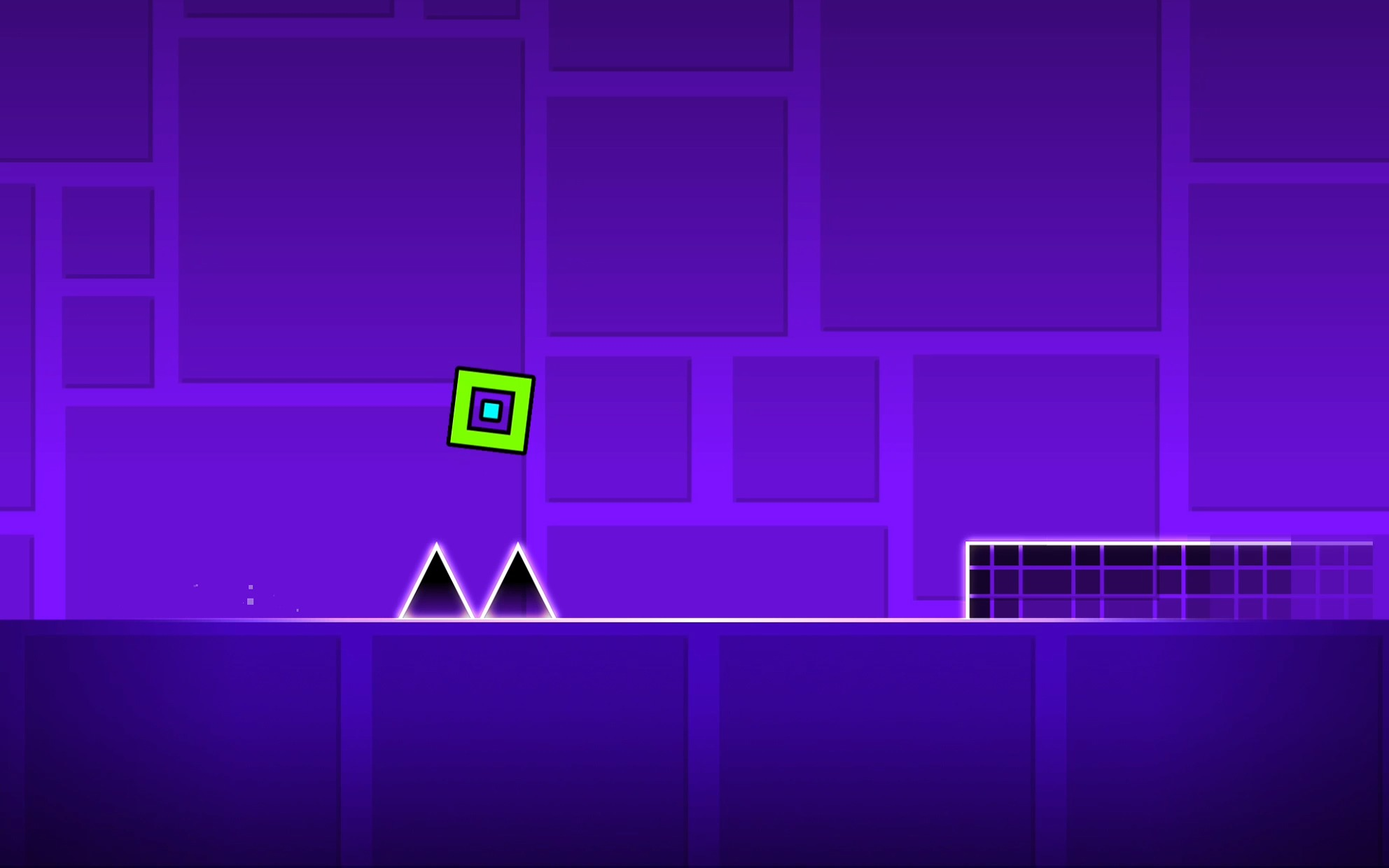Block2: (965, 540, 1379, 617)
Player: (448, 368, 534, 452)
Spike: (480, 542, 557, 619), (397, 542, 474, 618)
